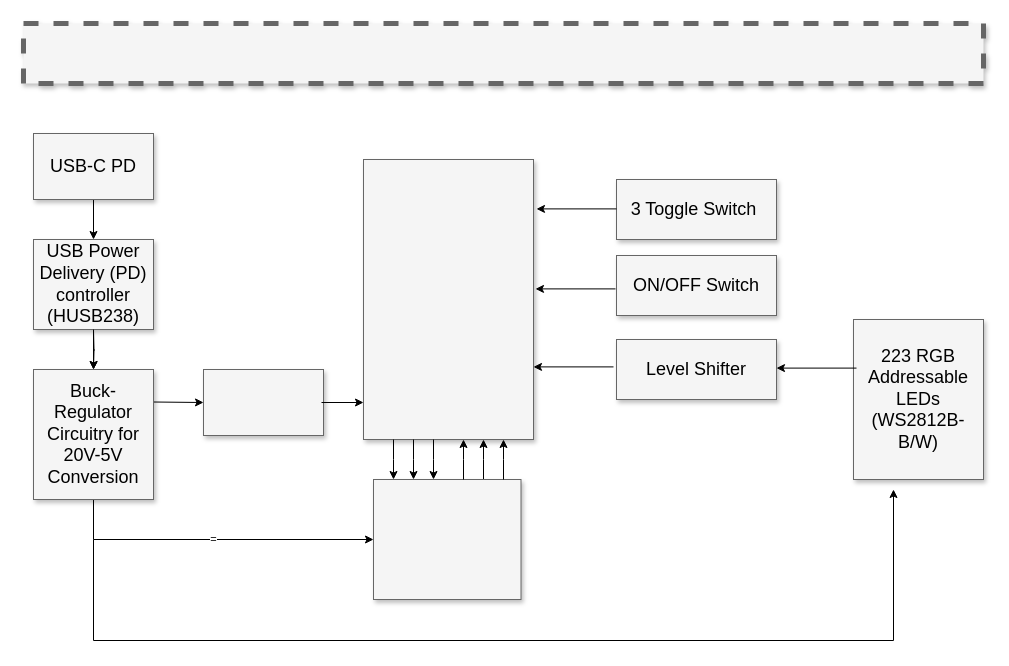
The diagram is 1009 pixels wide and 666 high, and some of its shapes have lost their labels. The shapes that lost their labels are listed below. From the top down, each one's centre as x and y in pixels, then its label:
At pixel 504 54: "Digital Photo-Frame".
At pixel 449 300: "Main Controller (ESP-32)".
At pixel 264 403: "3.3V LDO".
At pixel 447 540: "LCD".
